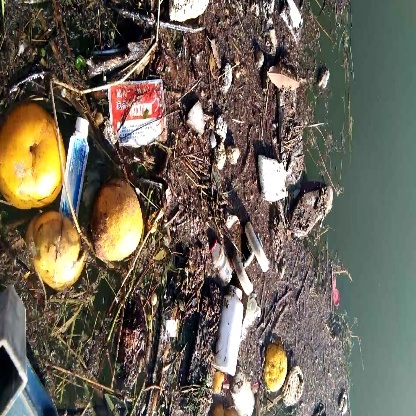ball: (3, 96, 67, 215)
bottle: (211, 285, 248, 381)
